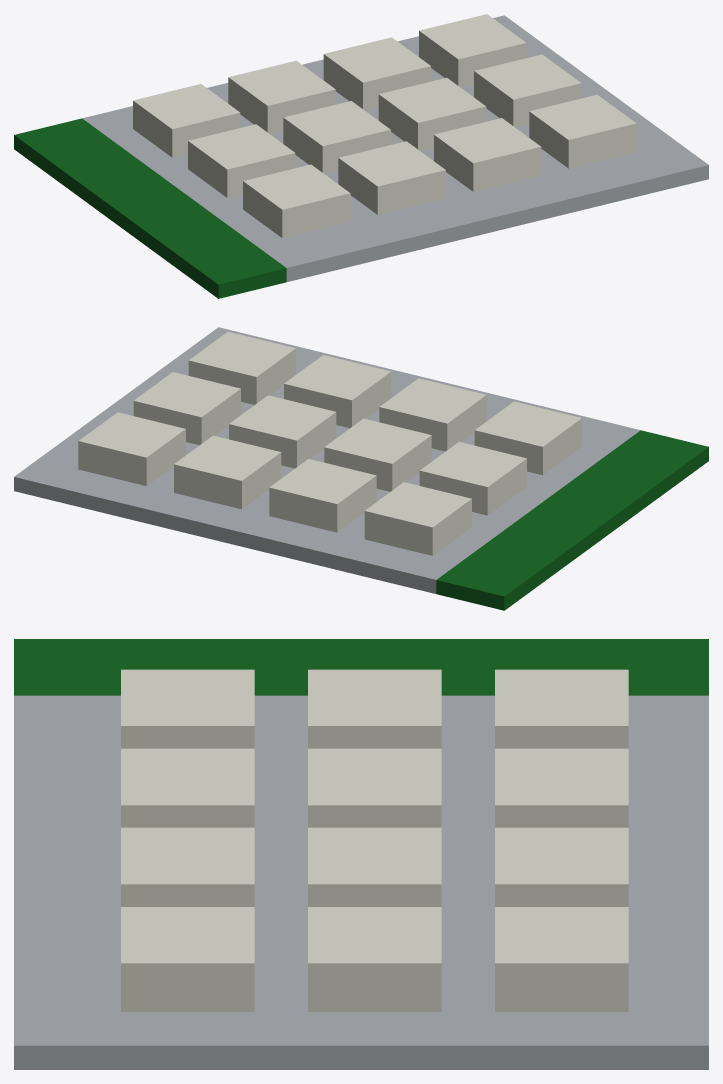
File: nicotine_gum.glb
3 renders of one model, top to bottom at view 1: azimuth 30°, elevation 25°; view 2: azimuth 150°, elevation 25°; view 3: azimuth 270°, elevation 25°, orthographic. The views are drawn at different scales.
Visible parts, largest first — view 1: nicotine_gum:compound; view 2: nicotine_gum:compound; view 3: nicotine_gum:compound.
Part boxes in pixels (x1=…): nicotine_gum:compound: x1=14, y1=14, x2=708, y2=298; nicotine_gum:compound: x1=14, y1=327, x2=708, y2=610; nicotine_gum:compound: x1=14, y1=639, x2=708, y2=1069.
Bounding box in the file's own units: 0.072 × 0.006 × 0.052.
